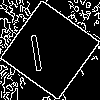I: (25, 25, 46, 72)
